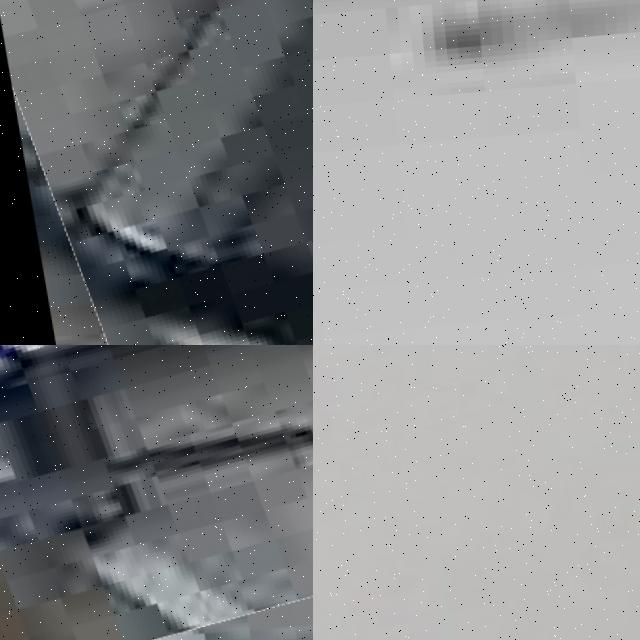drone: (0, 0, 313, 345), (0, 345, 313, 640)
